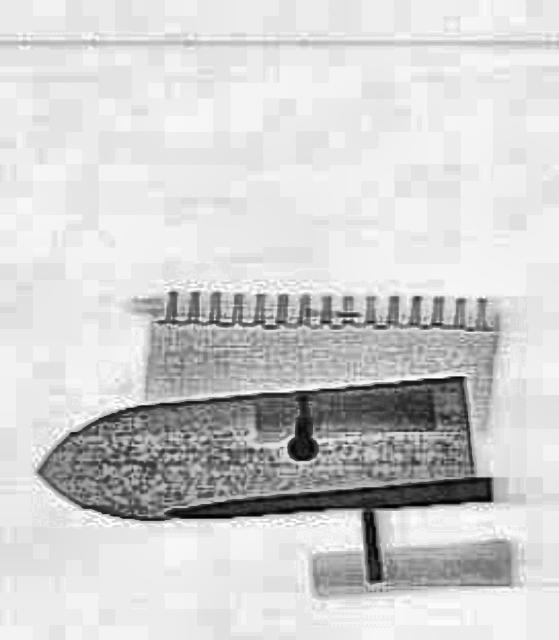Knife: (27, 367, 476, 529)
